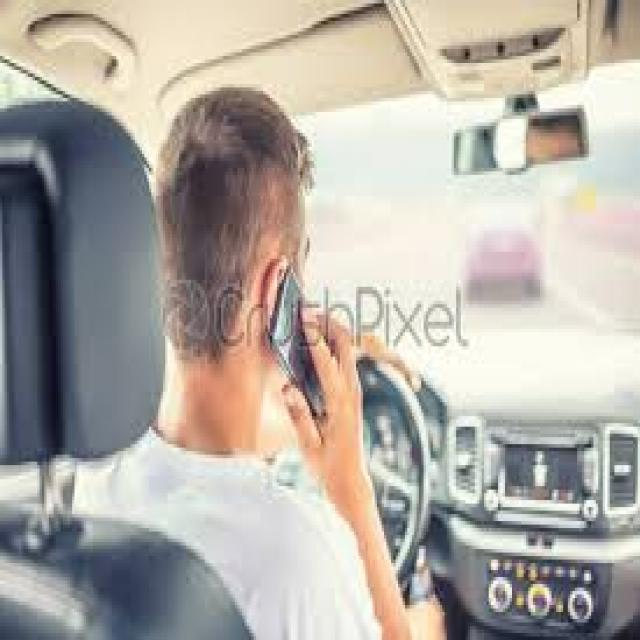Cellphone_calling: (240, 234, 370, 490)
